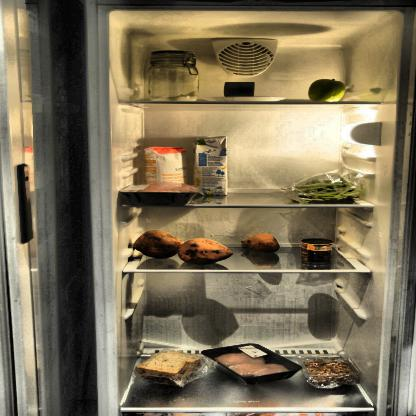apple: (308, 79, 348, 104)
cheese: (219, 81, 262, 98)
chicken: (214, 348, 296, 382)
corn: (299, 237, 338, 266)
green_beans: (290, 178, 365, 205)
milk: (191, 136, 230, 198)
shrimp: (301, 354, 359, 386)
sweet_potato: (131, 230, 237, 265), (239, 233, 280, 254)
